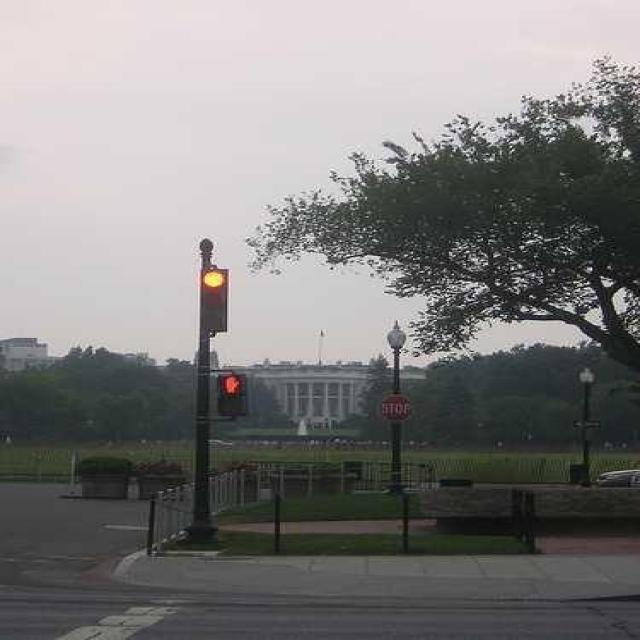Traffic Light -Red-: (200, 264, 230, 336)
